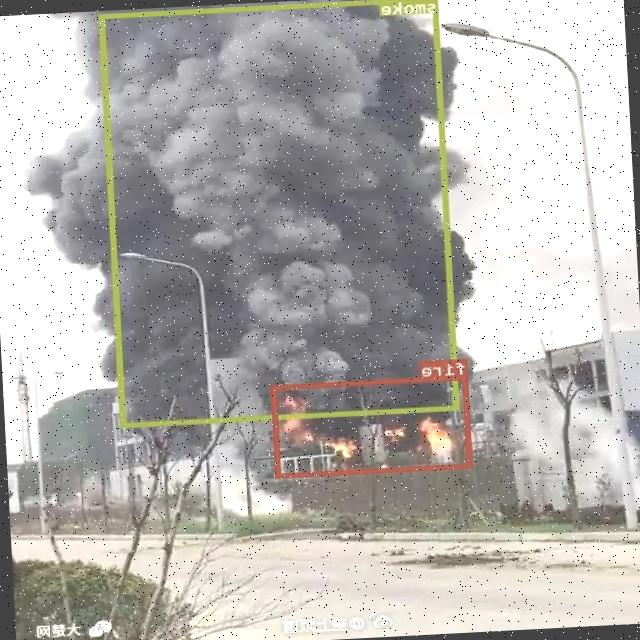fire: (272, 375, 474, 478)
smoke: (100, 0, 461, 427)
